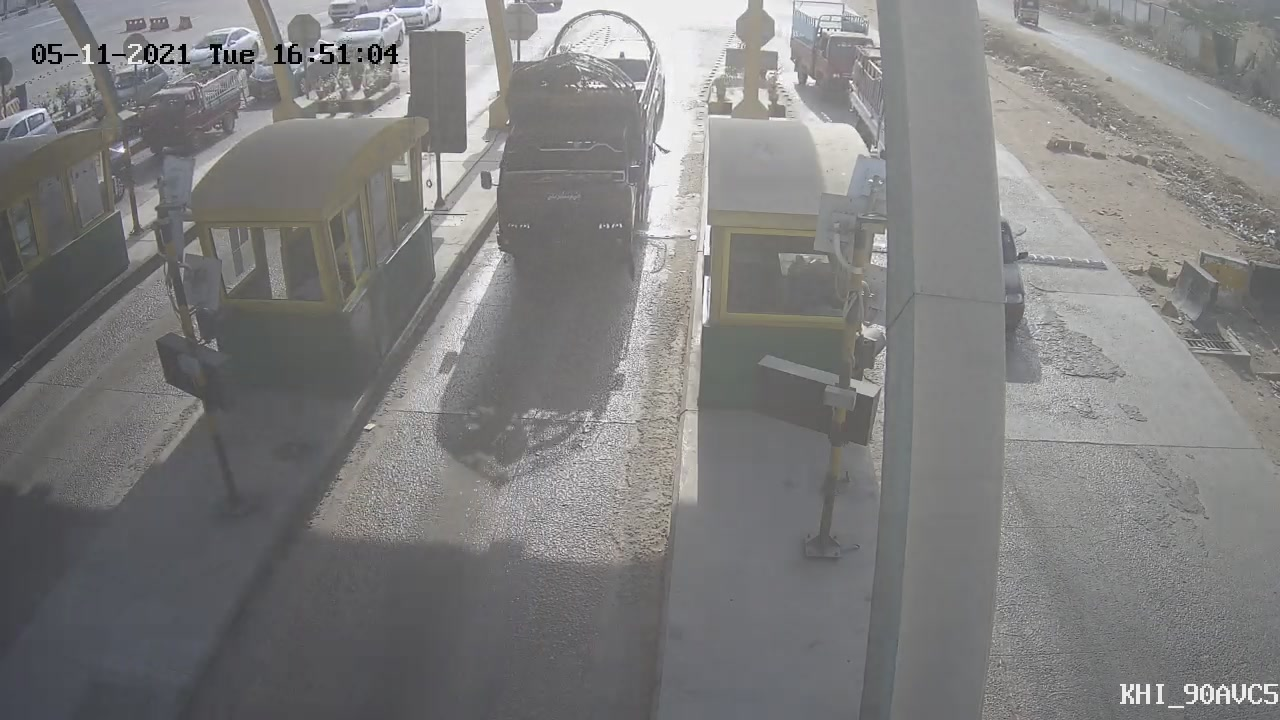F5: (457, 1, 689, 296)
